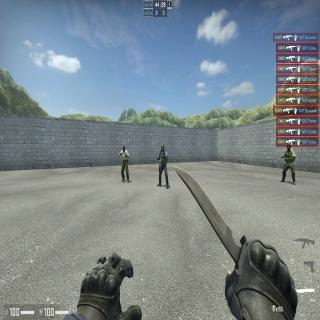CT-Body: (282, 143, 296, 183), (158, 143, 167, 187), (121, 145, 129, 182)
CT-Head: (160, 142, 164, 152), (286, 144, 290, 152), (122, 146, 126, 152)
